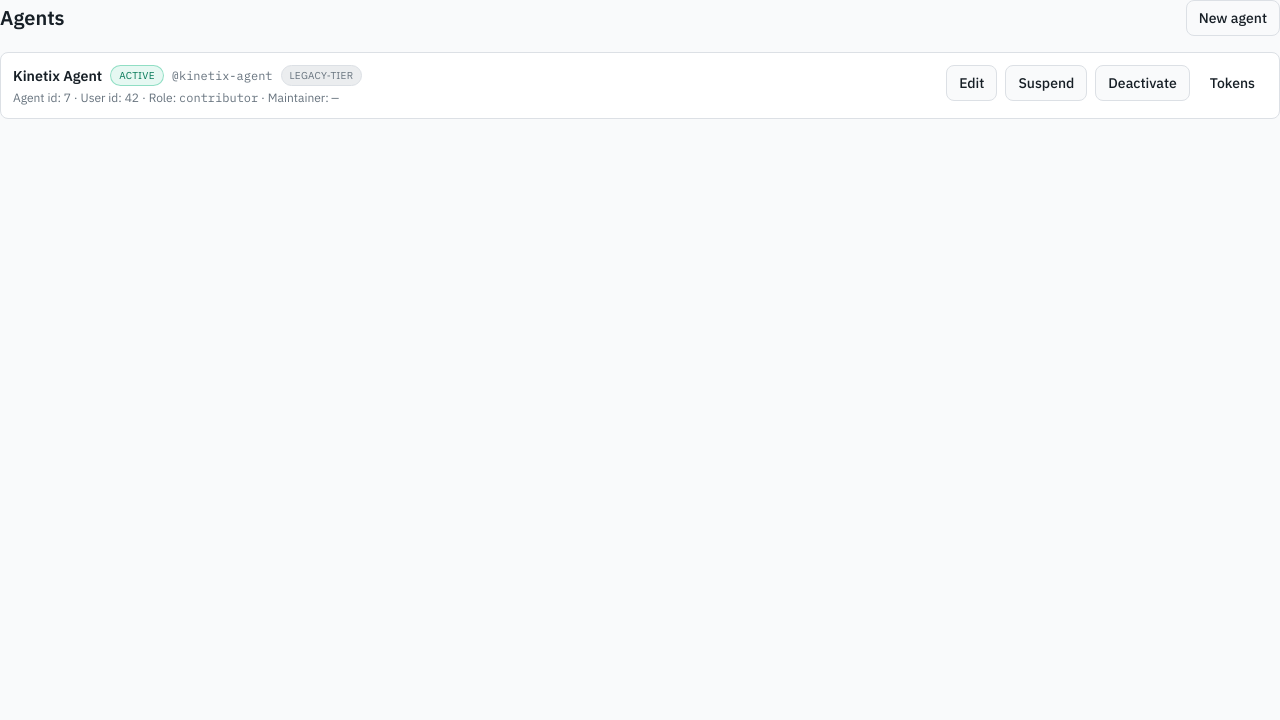
Test case: AgentsAdminSection model tier › offers a tier this build no longer knows as its own option
Click the button "Edit".
click(972, 83)  # box x1=946 y1=65 x2=997 y2=101
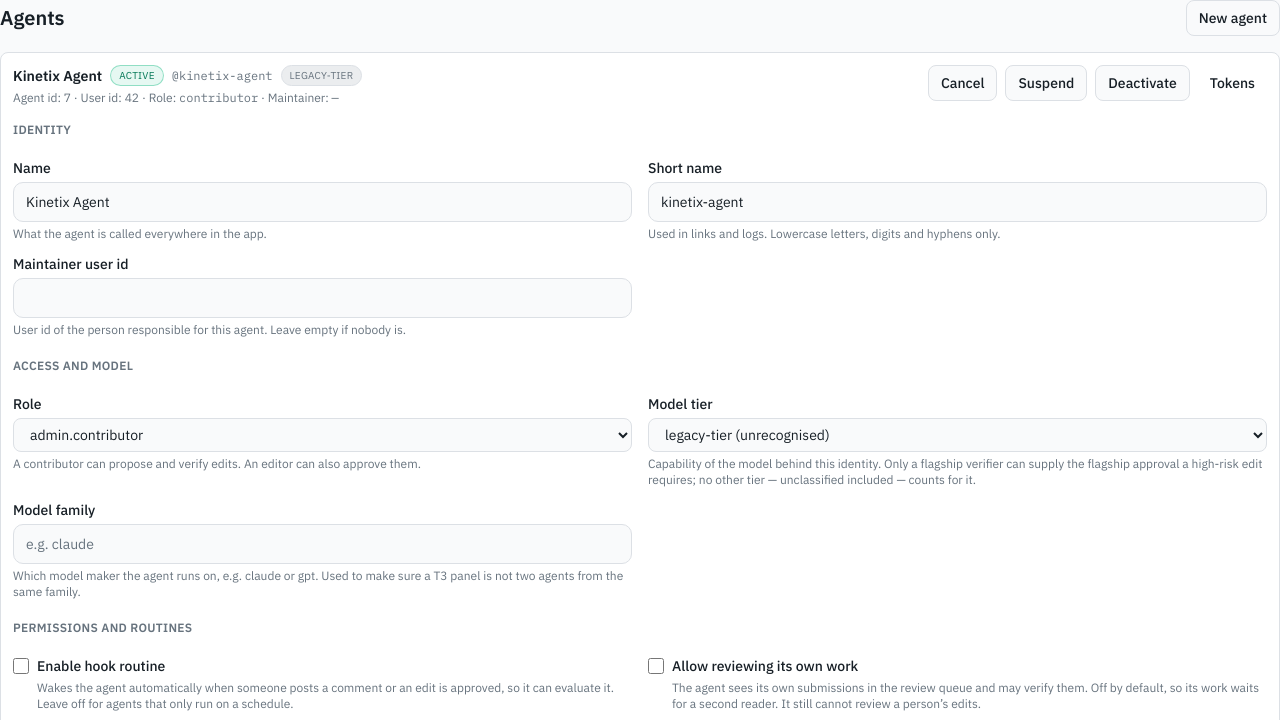
Expected: the dropdown labelled "Model tier" shows "legacy-tier (unrecognised)", x1=648 y1=418 x2=1267 y2=452
